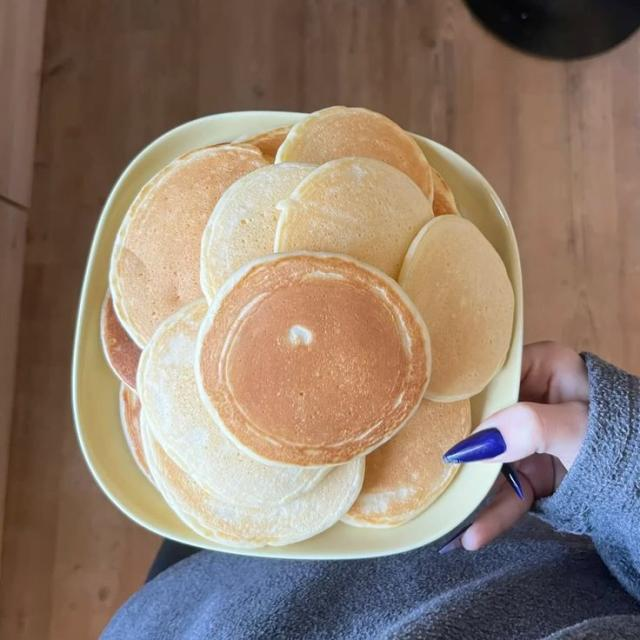pancake: (196, 253, 430, 466), (139, 300, 327, 506), (110, 145, 267, 346), (142, 413, 364, 547), (400, 216, 513, 400), (274, 158, 433, 278), (343, 400, 471, 526), (200, 163, 315, 301), (276, 107, 433, 202), (101, 293, 140, 390), (120, 384, 151, 479), (235, 126, 291, 160), (432, 167, 459, 215)
